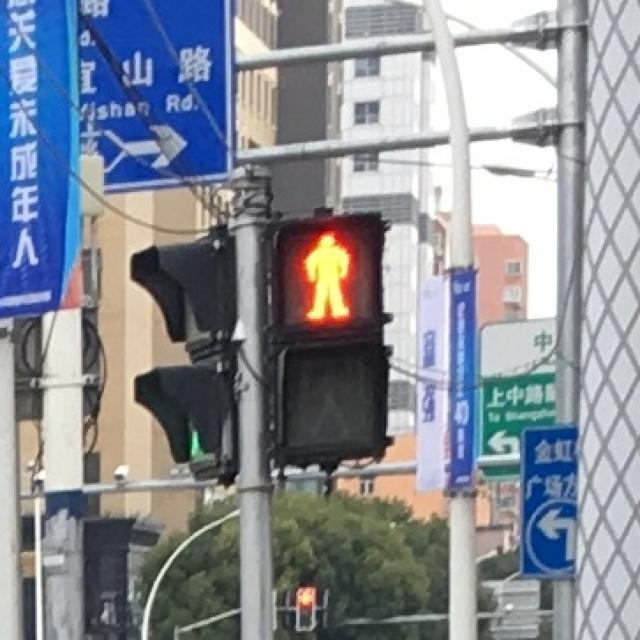red-crossing: (276, 218, 379, 326)
